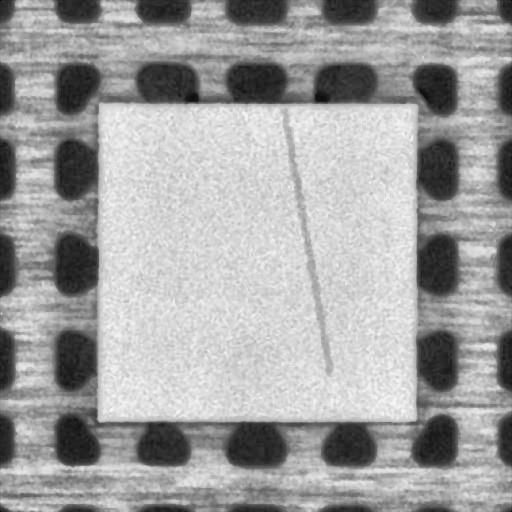DIE_CRACK: (282, 110, 328, 374)
